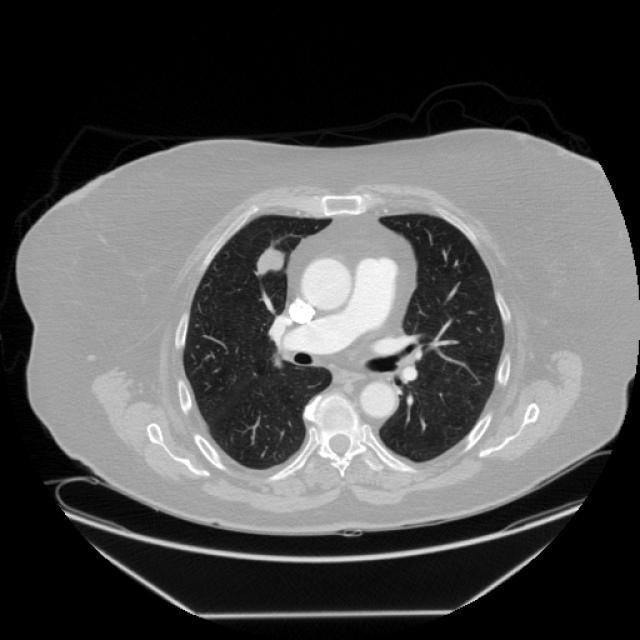nodule: (243, 235, 295, 287)
